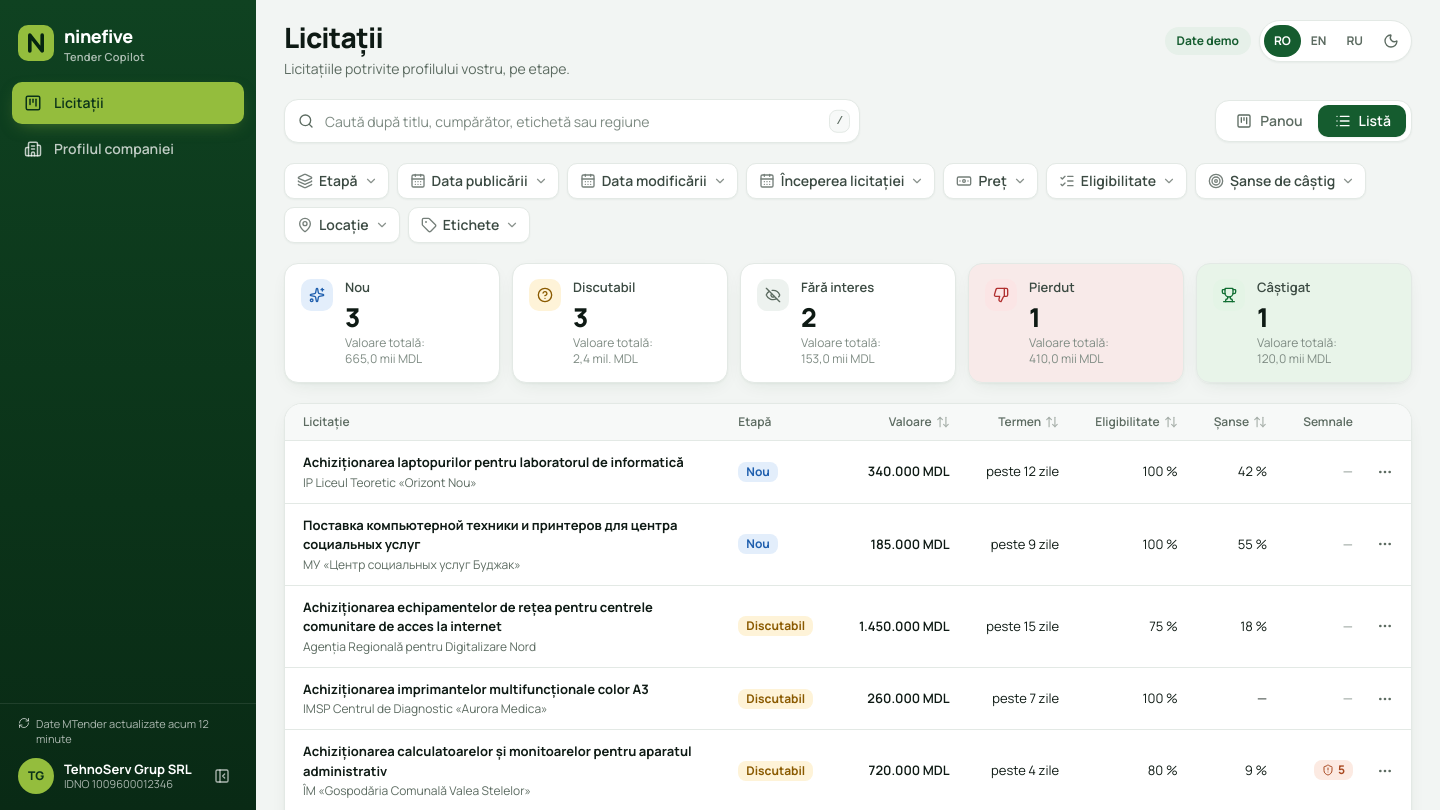
moving cards › moves a tender from the list view menu without opening it
Click the button named "Acțiuni pentru".
click(1385, 472)  # box [1371, 458, 1399, 486]
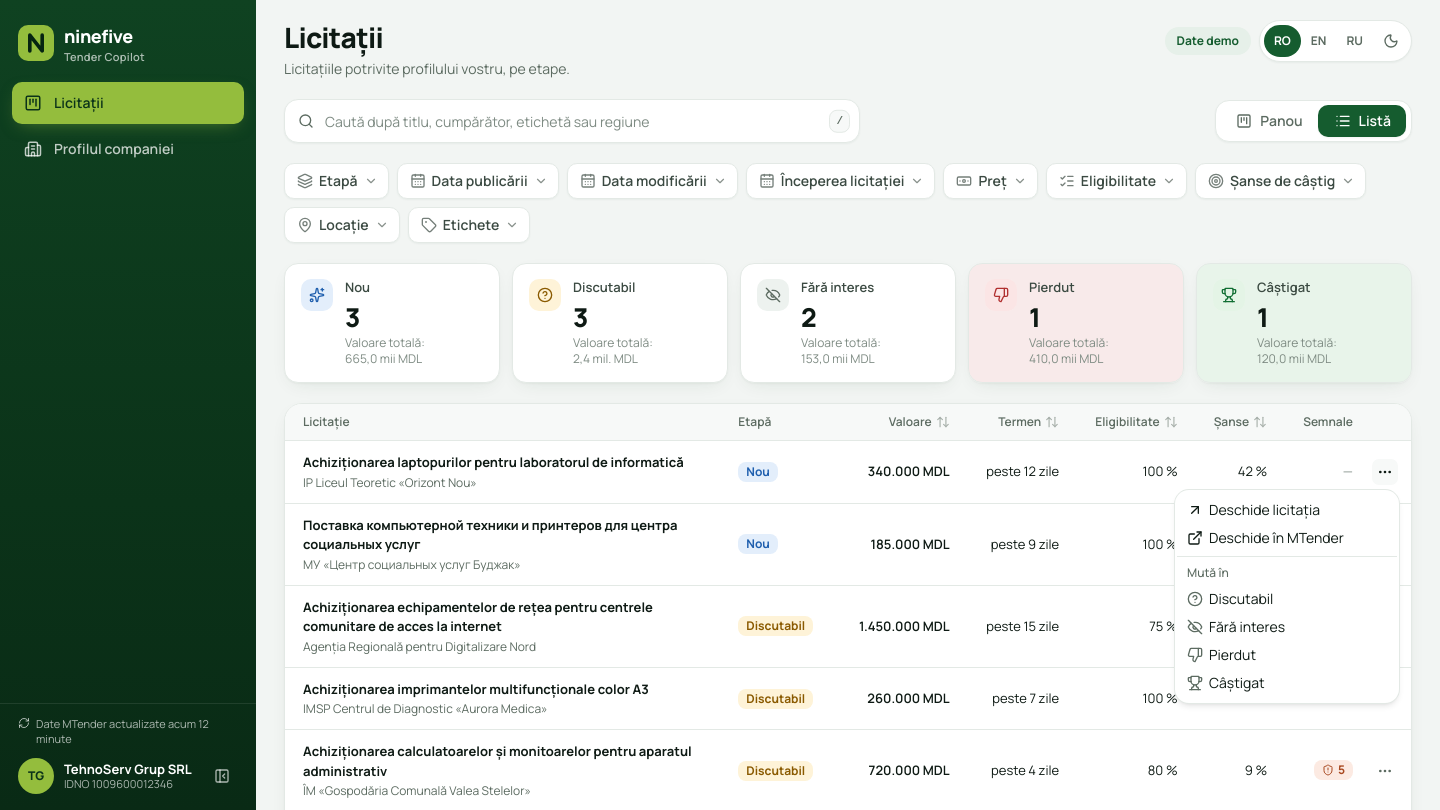
Click the menu item "Fără interes".
click(1236, 626)  # box [1187, 617, 1285, 636]
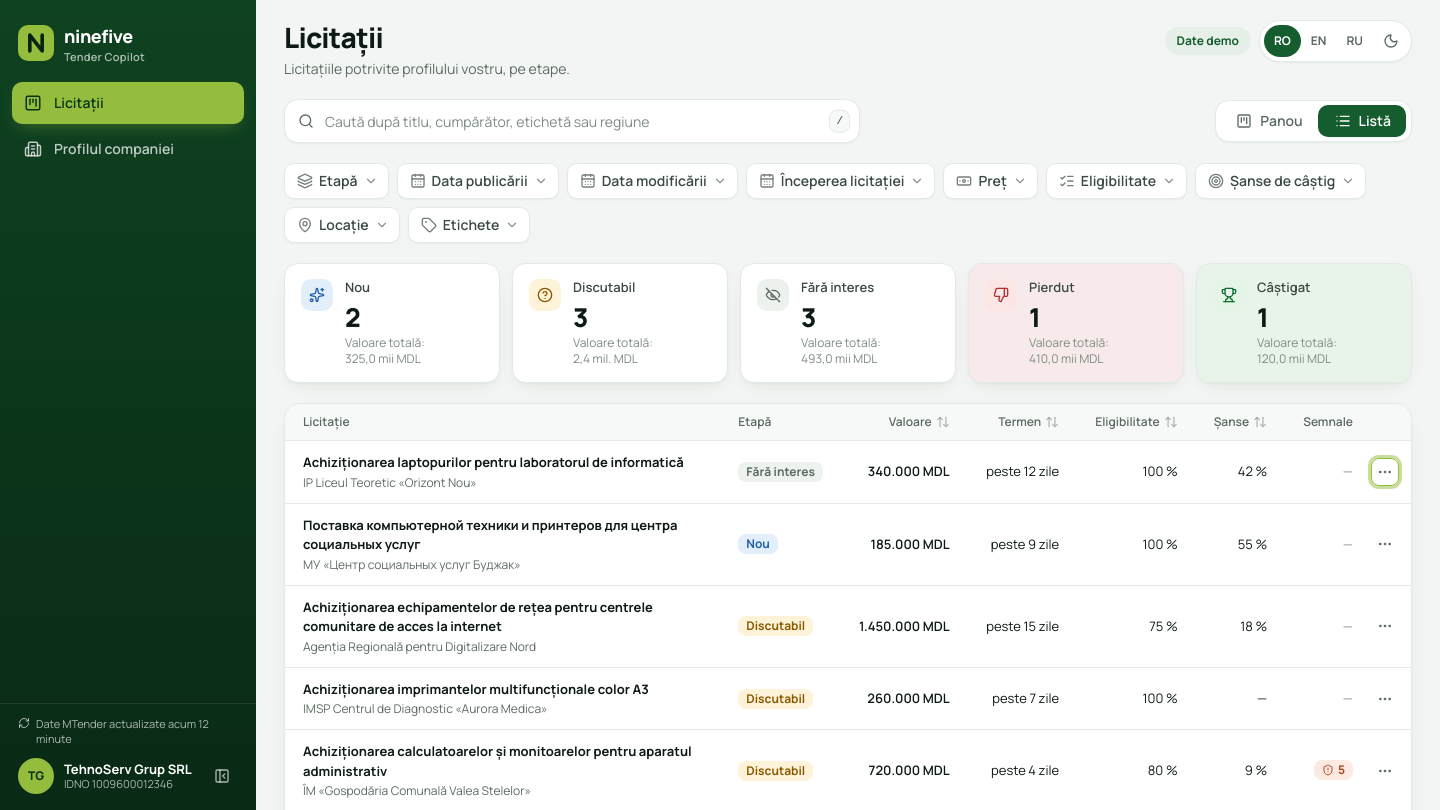
Expected: the text "Fără interes" next to "340.000 MDL" is shown, [746, 463, 815, 480]
